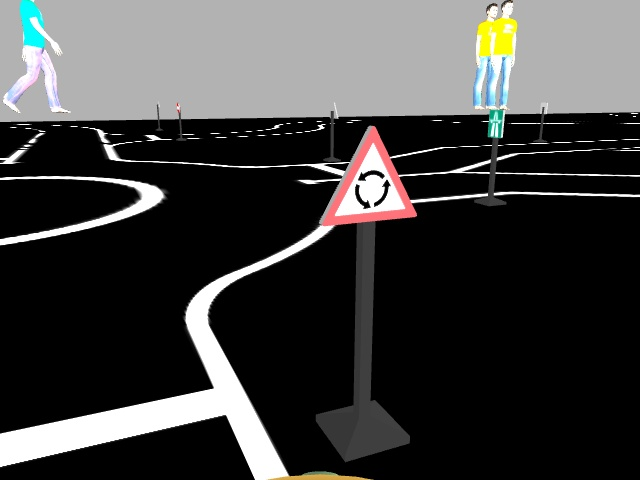HighwayEntrance: (486, 106, 505, 139)
Roundabout: (315, 123, 418, 226)
